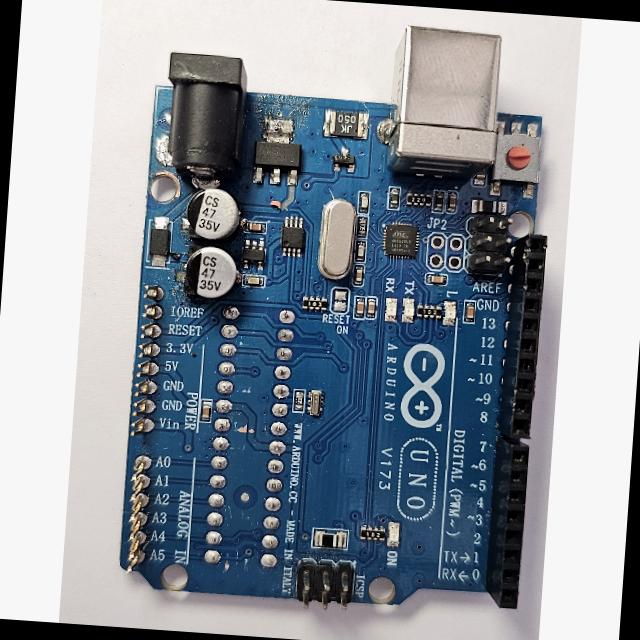missing_analog_pins: (116, 276, 174, 581)
missing_atmega: (192, 302, 299, 578)
